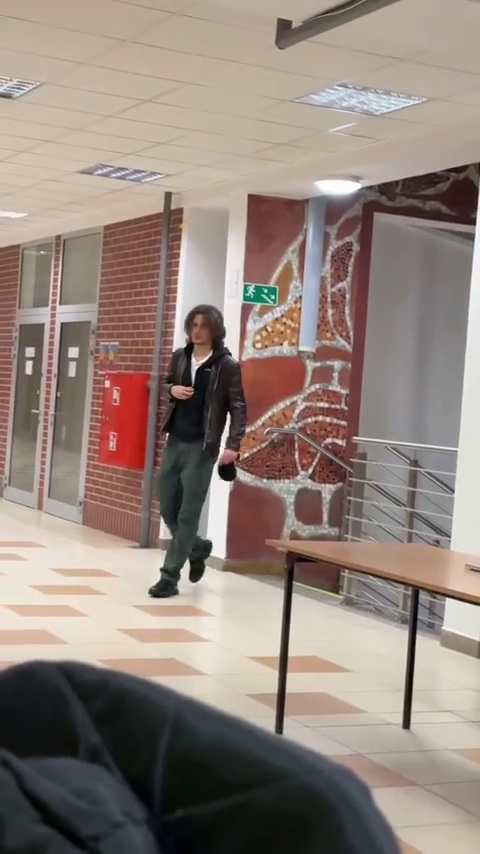no vest: (154, 303, 249, 606)
